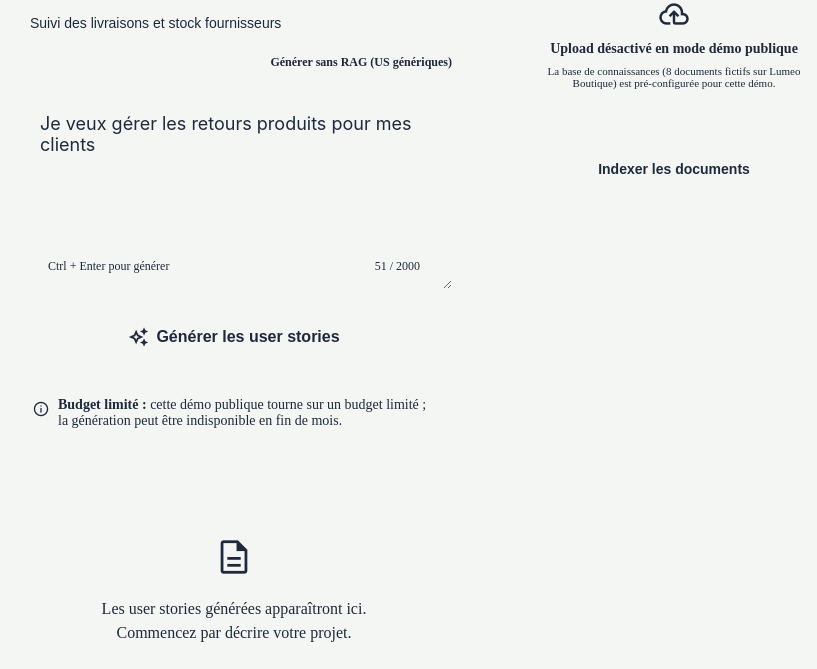
Test: Forge — échec de la récupération RAG › affiche une notice « Base de connaissances indisponible » pendant la génération quand retrieveContext échoue
(page scrolled)
Click the button "Générer les user stories".
click(234, 336)  # box [16,308,452,364]
(page scrolled)
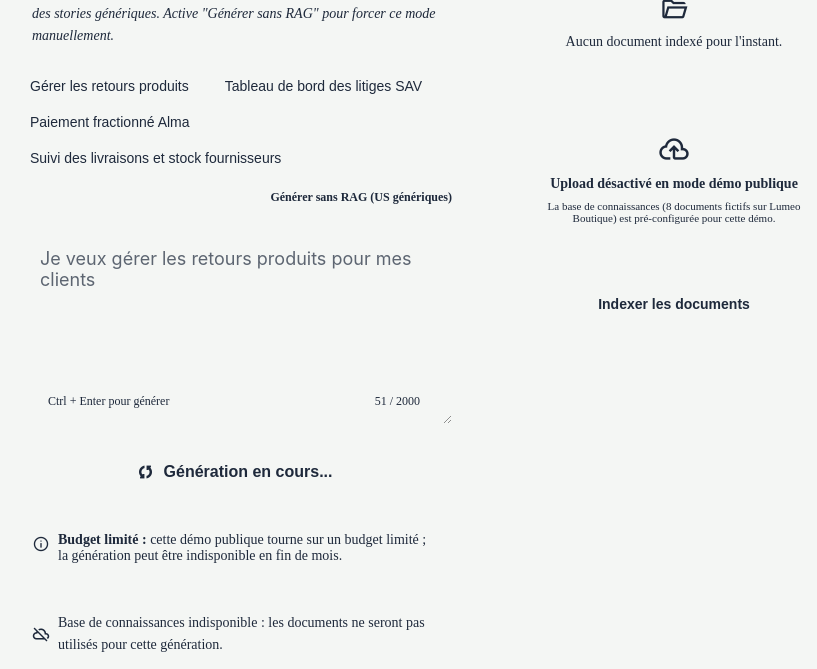
Expected: the text "Base de connaissances indisponible" is shown, [58,614,425,652]
